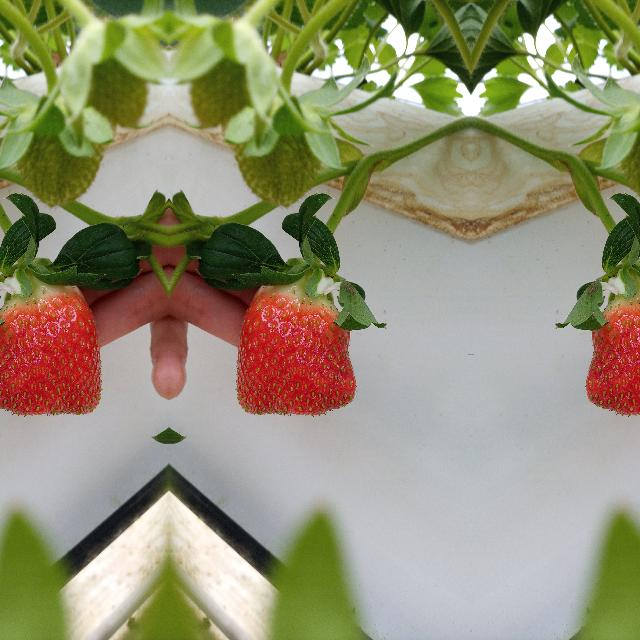Health_100: (234, 268, 356, 417), (0, 267, 102, 416), (584, 267, 640, 416)
